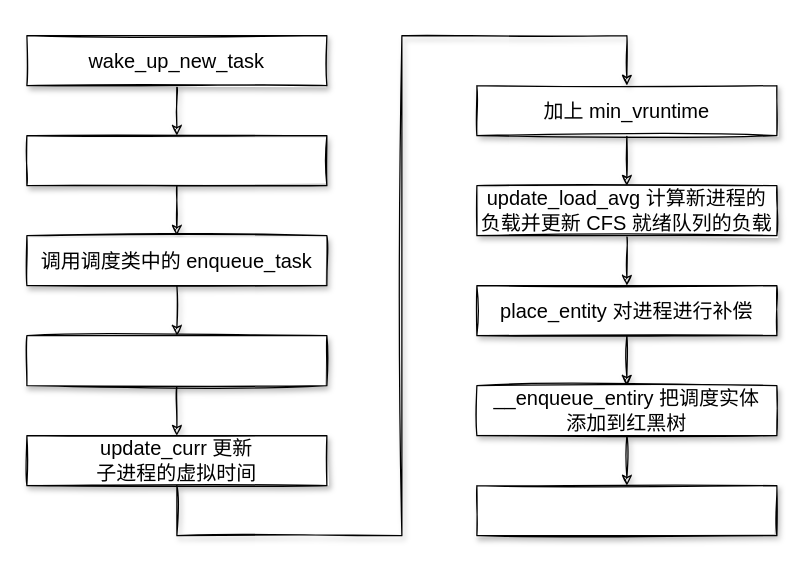
Image size: 806x576. Some labels were removed from this diagram. The shapes that lost their labels are listed below. From the top down, each one's centre as x and y in pixels, then its label:
At point 177,161: "设置运行状态为 TASK_RUNNING".
At point 177,361: "enqueue_task_fair".
At point 627,511: "se->on_rq = 1 表明进程 处于可运行状态".
